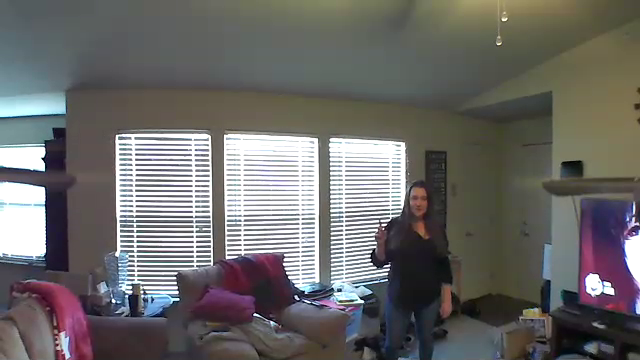up: (371, 217, 388, 249)
